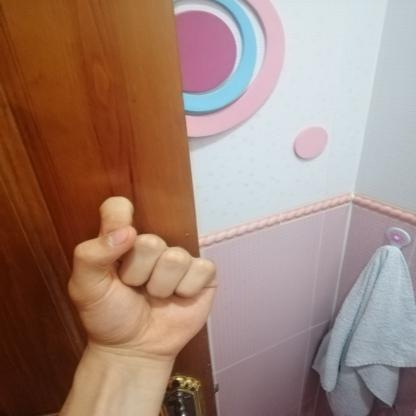FAA: (54, 183, 233, 367)
